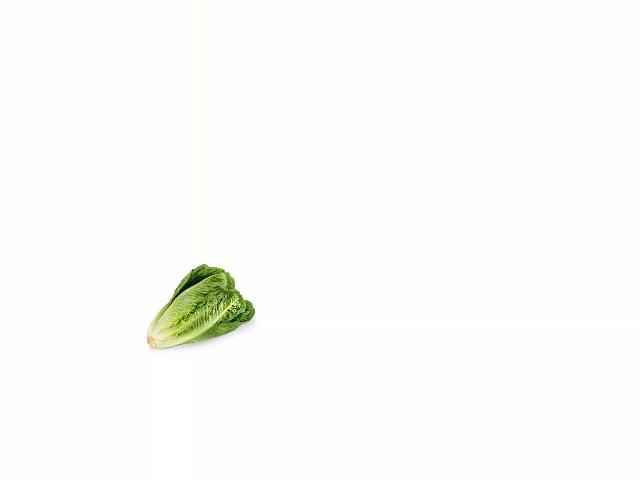lettuce: (145, 264, 254, 351)
